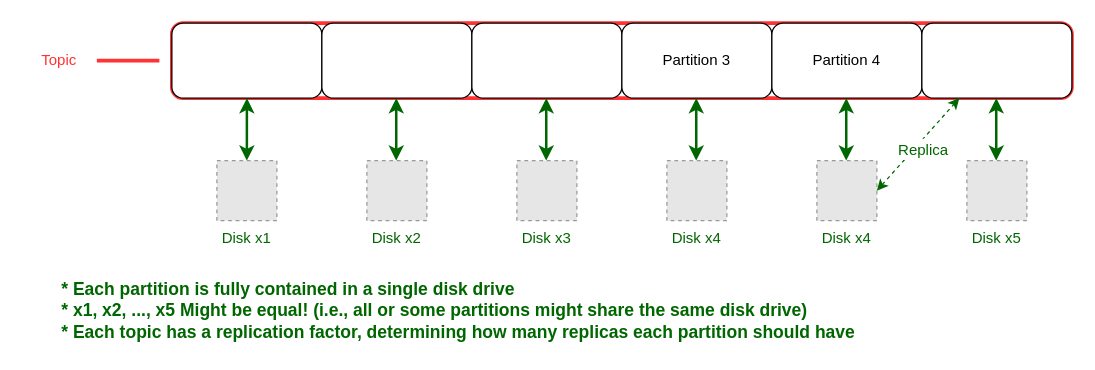
Image size: 1095x370. Some labels were removed from this diagram. Grey dashed boxes stand in for pictures. Each missing label, with the box of its shape:
Partition 0: (171, 22, 322, 98)
Partition 1: (321, 22, 472, 98)
Partition 2: (471, 22, 622, 98)
Partition 5: (921, 22, 1072, 98)
